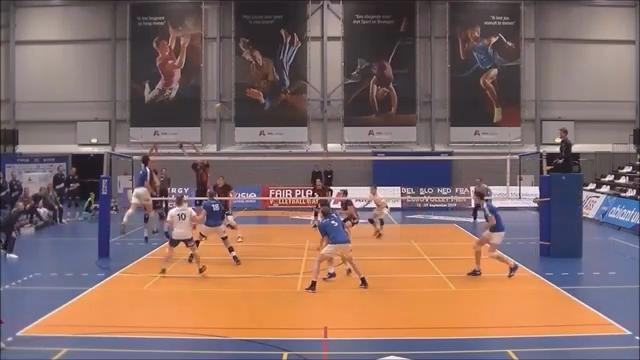Attack: (116, 139, 156, 243)
Block: (174, 134, 212, 206)
Player: (305, 206, 367, 292), (467, 191, 517, 277), (160, 195, 206, 273), (195, 189, 240, 264), (363, 186, 387, 237), (312, 178, 332, 227), (220, 199, 242, 241), (339, 189, 358, 232), (340, 189, 358, 229)
ball: (216, 102, 224, 112)
